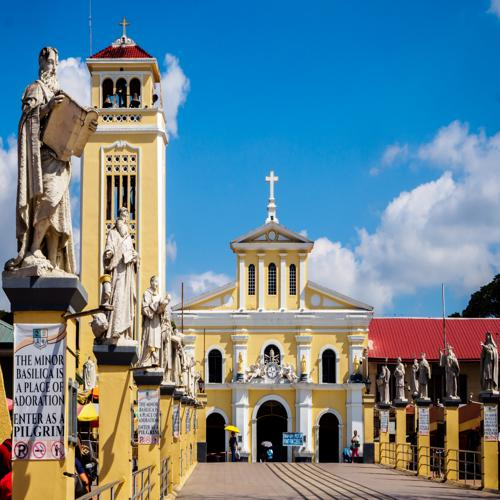Manaoag Church: (76, 6, 373, 472)
